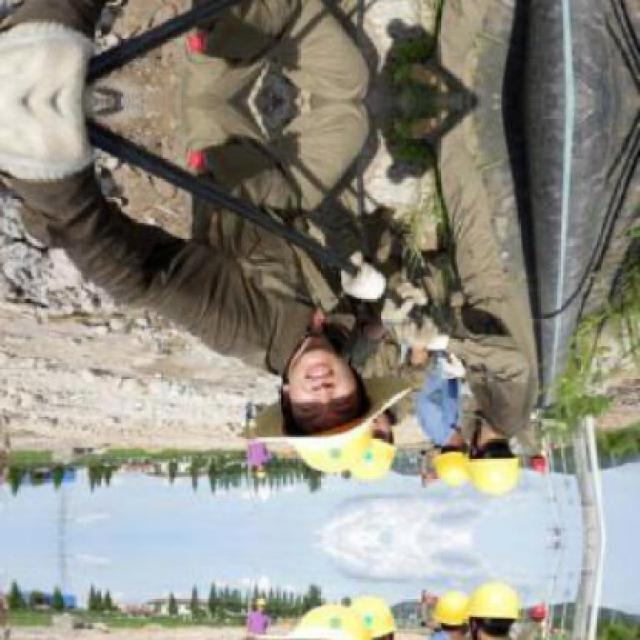con casco: (236, 346, 400, 497), (428, 421, 542, 507)
